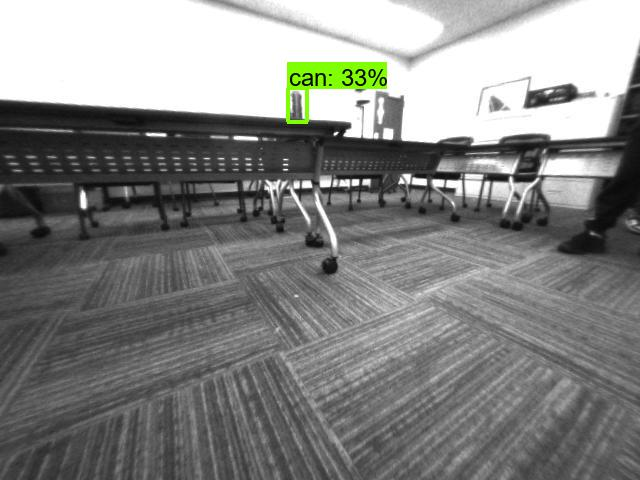can: (285, 88, 305, 119)
